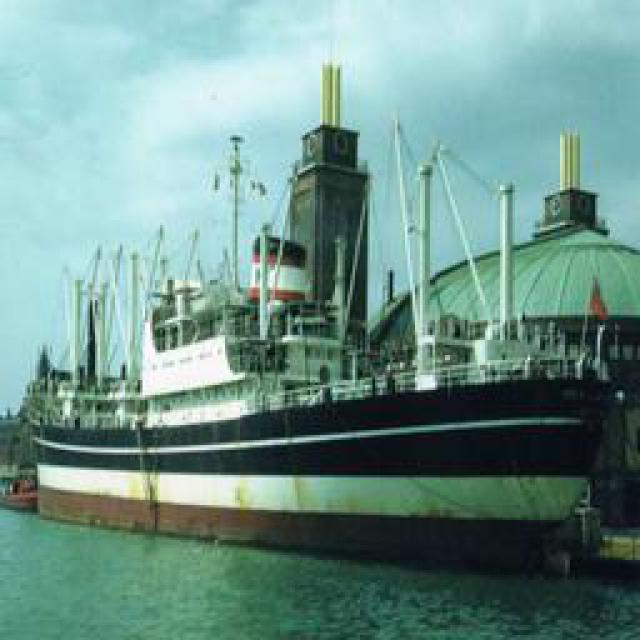Ship: (16, 74, 629, 559)
